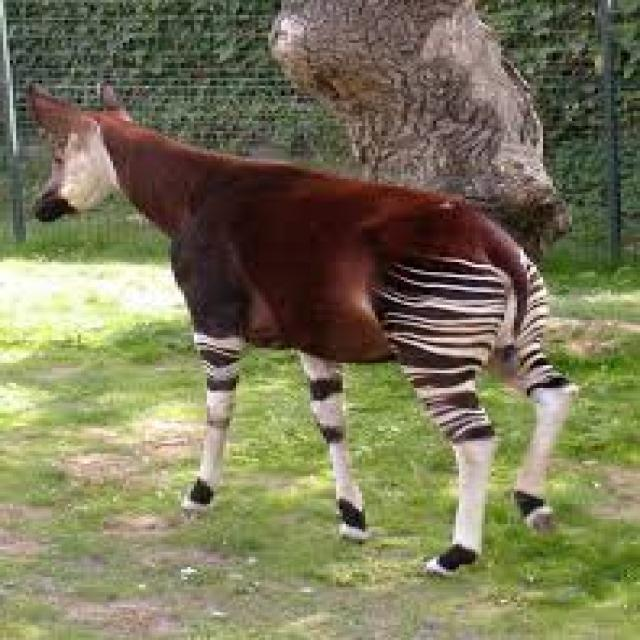Okapi: (14, 75, 582, 580)
